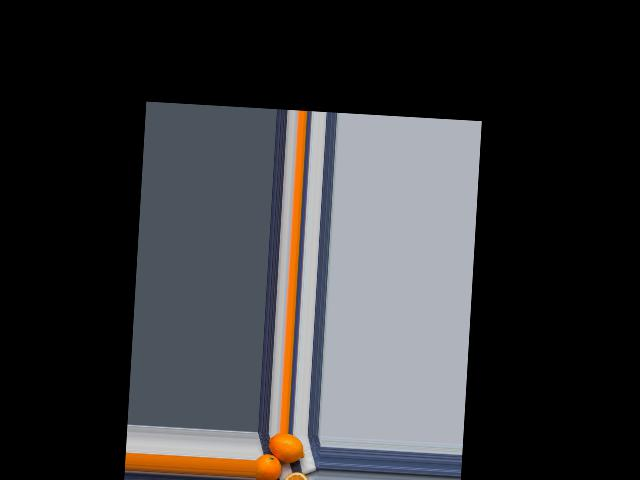lemon: (254, 453, 281, 480)
